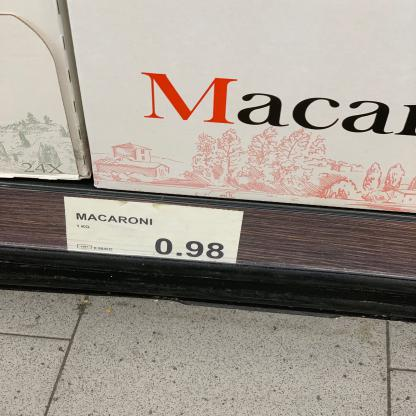prtg: (65, 198, 243, 264)
